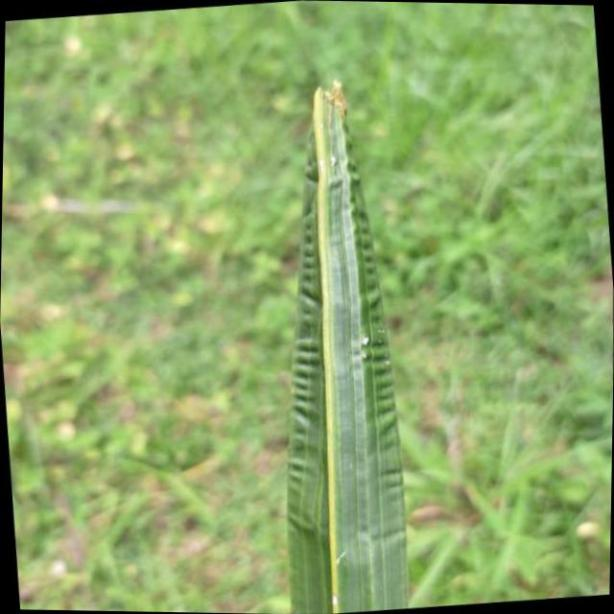Boron: (283, 64, 411, 614)
